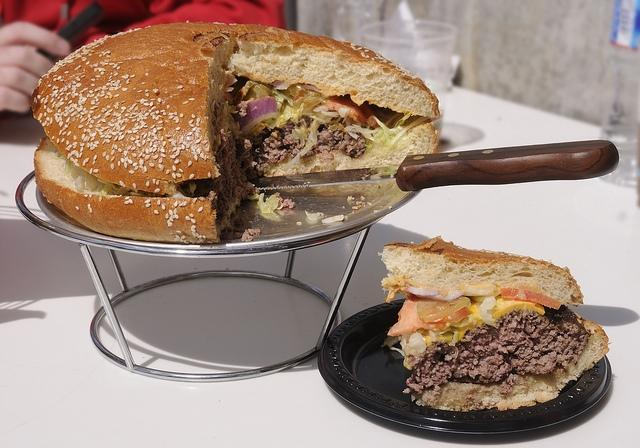onion: (234, 97, 276, 138)
tomato: (387, 294, 468, 336), (324, 94, 380, 128), (417, 296, 470, 323), (500, 287, 562, 310)
